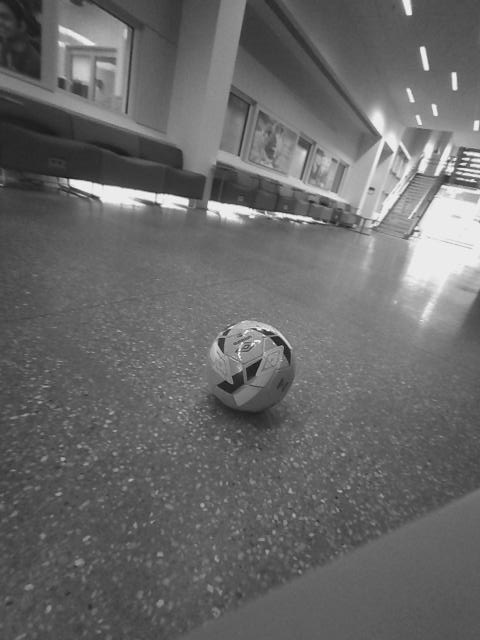ball: (249, 255, 299, 306)
